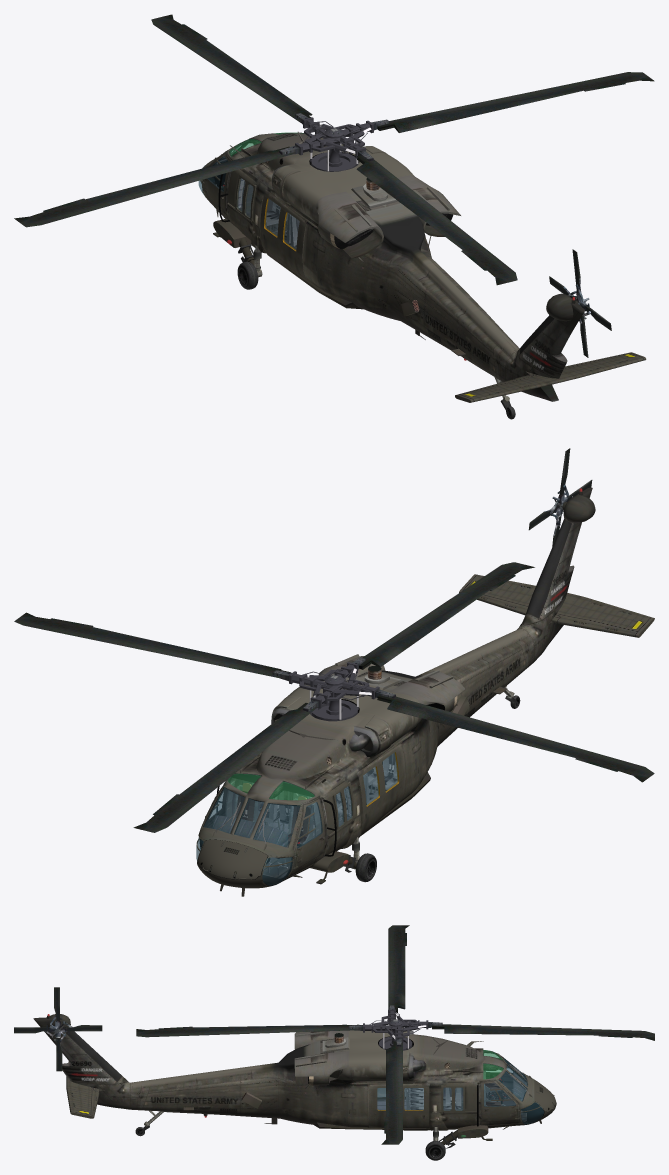
3 views of the same model, one above another, from view 1: azimuth 30°, elevation 25°; view 2: azimuth 150°, elevation 25°; view 3: azimuth 270°, elevation 25° (orthographic). The views are drawn at different scales.
Parts seen in each view (by area): view 1: fuselage.026, main_rotor, Door_L, elevator, rear_rotor, cabinDoor_L; view 2: fuselage.026, main_rotor, elevator, Door_L, cabinDoor_L, rear_rotor, left pilot seat; view 3: fuselage.026, main_rotor, Door_R, cabinDoor_R, rear_rotor, elevator.
Boxes of the visible parts, x1,y1,x2,y2 form: fuselage.026: [198, 131, 584, 414]; main_rotor: [14, 14, 654, 285]; Door_L: [260, 193, 308, 280]; elevator: [455, 352, 646, 402]; rear_rotor: [549, 249, 611, 357]; cabinDoor_L: [201, 153, 231, 219]; fuselage.026: [196, 487, 595, 896]; main_rotor: [14, 562, 654, 832]; elevator: [459, 574, 654, 637]; Door_L: [358, 746, 405, 833]; cabinDoor_L: [290, 797, 325, 875]; rear_rotor: [528, 448, 592, 546]; left pilot seat: [277, 794, 313, 863]; fuselage.026: [33, 1014, 556, 1148]; main_rotor: [136, 925, 654, 1144]; Door_R: [369, 1086, 429, 1129]; cabinDoor_R: [480, 1080, 519, 1125]; rear_rotor: [14, 987, 102, 1071]; elevator: [66, 1061, 99, 1118].
Size of the model in its own units: 91339 by 29985 by 112881.
